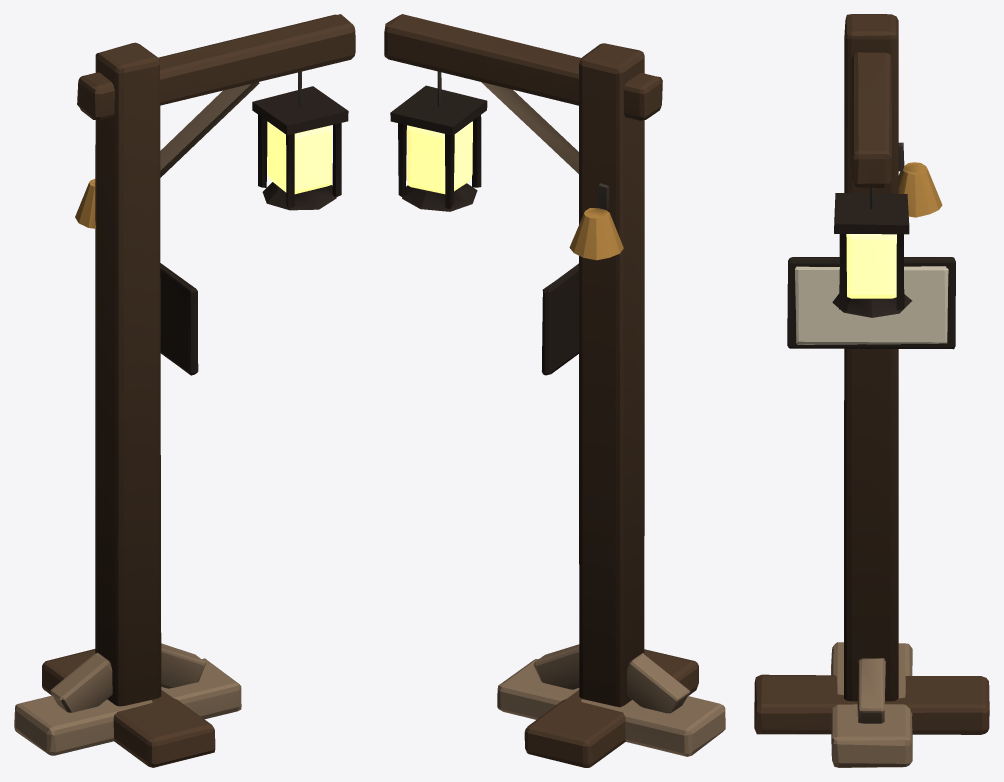
Rendered from liftstop.glb.
3 renders of one model, left to right at view 1: azimuth 30°, elevation 25°; view 2: azimuth 150°, elevation 25°; view 3: azimuth 270°, elevation 25°, orthographic. The views are drawn at different scales.
Visible parts, largest first — view 1: LiftStop; view 2: LiftStop; view 3: LiftStop.
Boxes of the visible parts, x1,y1,x2,y2 form: LiftStop: (14, 14, 355, 767); LiftStop: (384, 14, 725, 767); LiftStop: (754, 14, 989, 767).
Size of the model in its own units: 1.15 by 2.3 by 0.7035.
